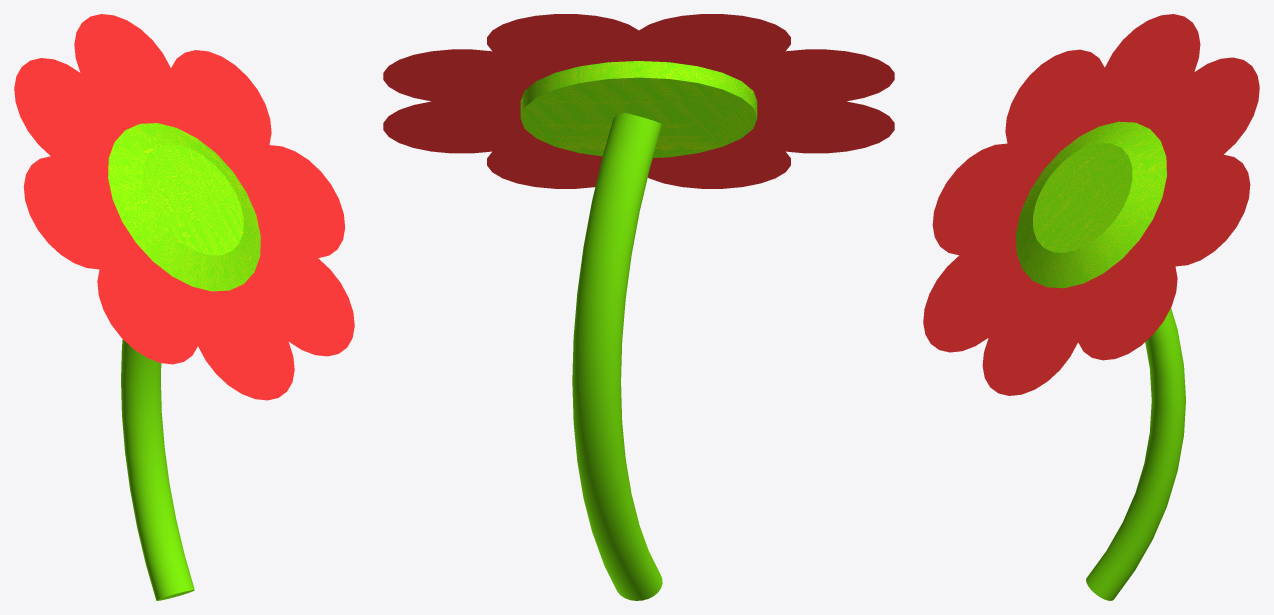
File: Flower_Round_01.fbx
3 views of the same model, side by side, from view 1: azimuth 30°, elevation 25°; view 2: azimuth 150°, elevation 25°; view 3: azimuth 270°, elevation 25° (orthographic). The views are drawn at different scales.
Parts seen in each view (by area): view 1: Model; view 2: Model; view 3: Model.
Boxes of the visible parts, box(x1,y1,x2,y2) form: Model: box(14, 14, 354, 600); Model: box(383, 14, 894, 600); Model: box(923, 14, 1259, 600).
Size of the model in its own units: 49.9 by 70.7 by 40.91.
